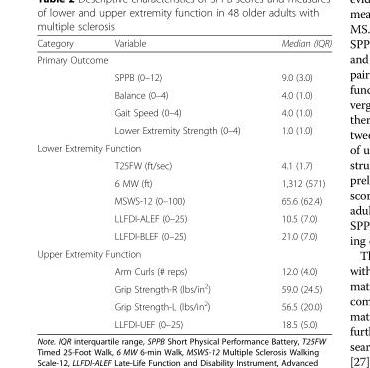table: (36, 37, 331, 329)
table column: (93, 37, 260, 329), (260, 37, 331, 329), (36, 37, 93, 329)
table column header: (36, 37, 331, 51)
table projected row header: (36, 138, 331, 156), (36, 244, 331, 262), (36, 51, 331, 68)
table row: (36, 296, 331, 315), (36, 85, 331, 103), (36, 103, 331, 121), (36, 138, 331, 156), (36, 156, 331, 174), (36, 191, 331, 209), (36, 226, 331, 244), (36, 244, 331, 262), (36, 51, 331, 68), (36, 68, 331, 85), (36, 121, 331, 138), (36, 174, 331, 191), (36, 209, 331, 226), (36, 262, 331, 279), (36, 279, 331, 296), (36, 37, 331, 51), (36, 315, 331, 329)
